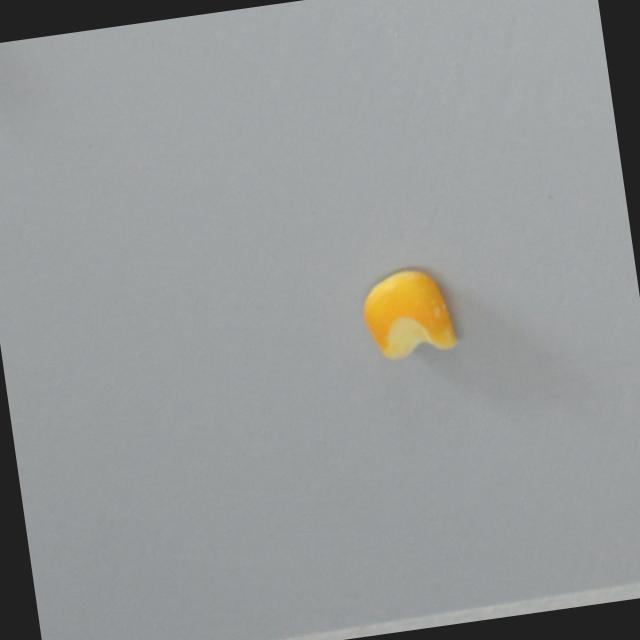no_canjicado: (357, 263, 460, 365)
